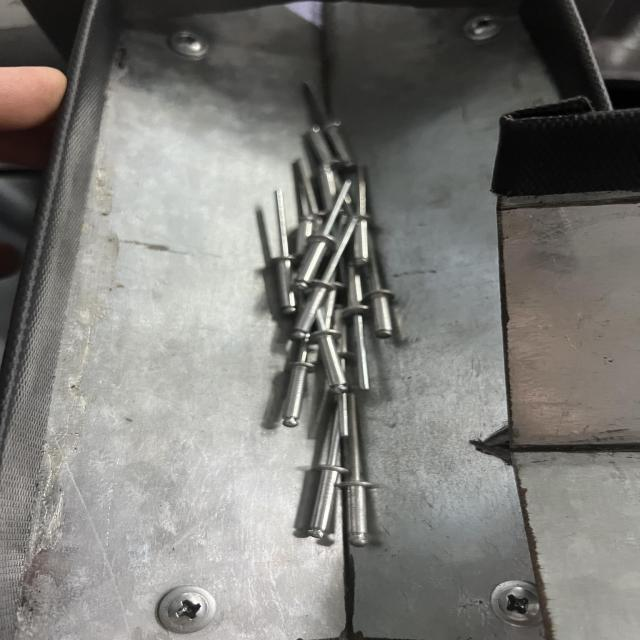rivet: (339, 398, 381, 547), (268, 189, 302, 314)
